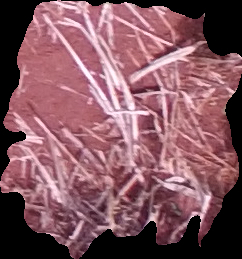soil: (2, 3, 241, 258)
